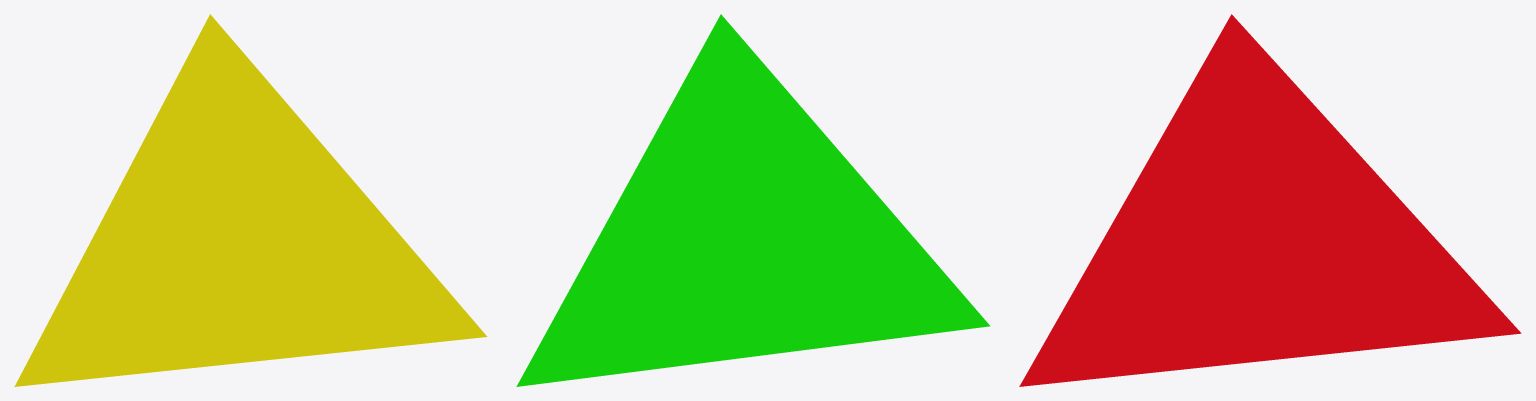
Rendered from limas-segitiga.glb.
3 renders of one model, left to right at view 1: azimuth 30°, elevation 25°; view 2: azimuth 150°, elevation 25°; view 3: azimuth 270°, elevation 25°, orthographic.
Visible parts, largest first — view 1: Mesh_Mesh_head_geo.001_lambert2SG.001; view 2: Mesh_Mesh_head_geo.001_lambert2SG.001; view 3: Mesh_Mesh_head_geo.001_lambert2SG.001.
Part boxes in pixels (<box>): Mesh_Mesh_head_geo.001_lambert2SG.001: <box>14,14,487,386</box>; Mesh_Mesh_head_geo.001_lambert2SG.001: <box>516,14,990,386</box>; Mesh_Mesh_head_geo.001_lambert2SG.001: <box>1019,14,1521,386</box>.
Bounding box in the file's own units: 8.87 × 6 × 9.46.
